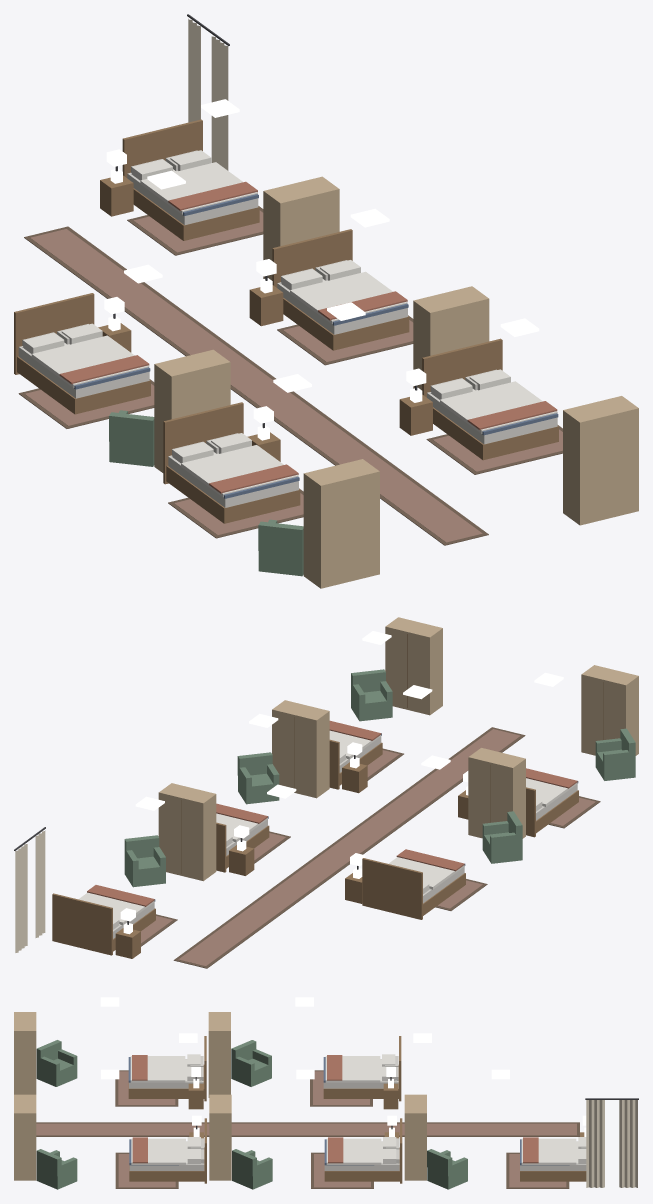
File: fine-s1.glb
3 views of the same model, one above another, from view 1: azimuth 30°, elevation 25°; view 2: azimuth 150°, elevation 25°; view 3: azimuth 270°, elevation 25° (orthographic). The views are drawn at different scales.
Parts seen in each view (by area): view 1: soft-s1, dresser.001, dresser.004, bed-frame.001, bed-frame.000, bed-frame.002, bed-frame.004, bed-frame.003, dresser.000, dresser.002, dresser.003, lounge-chair.000 (+4 smaller); view 2: soft-s1, dresser.002, dresser.003, dresser.004, dresser.000, dresser.001, bed-frame.000, bed-frame.002, lounge-chair.002, lounge-chair.004, lounge-chair.003, lounge-chair.000 (+8 smaller); view 3: soft-s1, dresser.003, dresser.002, dresser.004, dresser.000, dresser.001, bed-frame.003, bed-frame.004, lounge-chair.001, lounge-chair.000, bed-frame.001, bed-frame.000 (+6 smaller).
Boxes of the visible parts, left/top/right/bottom form: soft-s1: left=18, top=14, right=562, bottom=545; dresser.001: left=303, top=459, right=379, bottom=588; dresser.004: left=563, top=396, right=638, bottom=525; bed-frame.001: left=163, top=402, right=300, bottom=523; bed-frame.000: left=14, top=293, right=150, bottom=414; bed-frame.002: left=122, top=119, right=259, bottom=240; bed-frame.004: left=422, top=338, right=558, bottom=460; bed-frame.003: left=272, top=229, right=409, bottom=350; dresser.000: left=154, top=349, right=230, bottom=472; dresser.002: left=263, top=176, right=339, bottom=280; dresser.003: left=413, top=286, right=489, bottom=390; lounge-chair.000: left=109, top=410, right=154, bottom=466; soft-s1: left=14, top=720, right=600, bottom=968; dresser.002: left=158, top=783, right=216, bottom=881; dresser.003: left=272, top=700, right=329, bottom=798; dresser.004: left=385, top=617, right=442, bottom=715; dresser.000: left=468, top=748, right=525, bottom=838; dresser.001: left=581, top=665, right=638, bottom=755; bed-frame.000: left=362, top=858, right=465, bottom=919; bed-frame.002: left=52, top=893, right=155, bottom=955; lounge-chair.002: left=124, top=835, right=165, bottom=887; lounge-chair.004: left=351, top=669, right=392, bottom=721; lounge-chair.003: left=237, top=752, right=279, bottom=804; lounge-chair.000: left=482, top=811, right=522, bottom=863; soft-s1: left=36, top=1054, right=638, bottom=1188; dresser.003: left=209, top=1094, right=231, bottom=1180; dresser.002: left=404, top=1094, right=426, bottom=1180; dresser.004: left=14, top=1094, right=36, bottom=1180; dresser.000: left=208, top=1012, right=230, bottom=1097; dresser.001: left=14, top=1012, right=36, bottom=1094; bed-frame.003: left=324, top=1118, right=402, bottom=1183; bed-frame.004: left=129, top=1118, right=206, bottom=1183; lounge-chair.001: left=36, top=1040, right=77, bottom=1086; lounge-chair.000: left=231, top=1040, right=271, bottom=1086; bed-frame.001: left=128, top=1036, right=206, bottom=1101; bed-frame.000: left=323, top=1036, right=401, bottom=1101.
Size of the model in its own units: 7.65 by 2.76 by 16.87.
